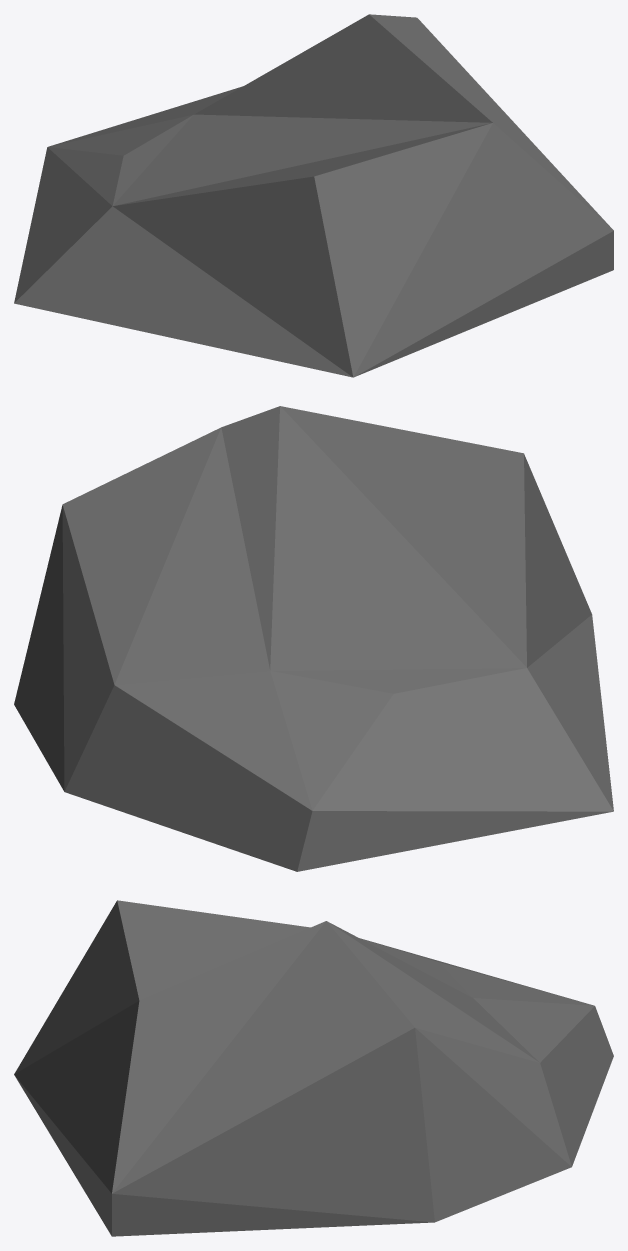
File: Stone_A_11.FBX
3 views of the same model, one above another, from view 1: azimuth 30°, elevation 25°; view 2: azimuth 150°, elevation 25°; view 3: azimuth 270°, elevation 25° (orthographic). The views are drawn at different scales.
Parts seen in each view (by area): view 1: Stone_A_11; view 2: Stone_A_11; view 3: Stone_A_11.
Part boxes in pixels (box(x1,y1,x2,y2)): Stone_A_11: box(14, 14, 613, 377); Stone_A_11: box(14, 406, 613, 871); Stone_A_11: box(14, 900, 613, 1236).
Size of the model in its own units: 2.03 by 0.8771 by 2.
